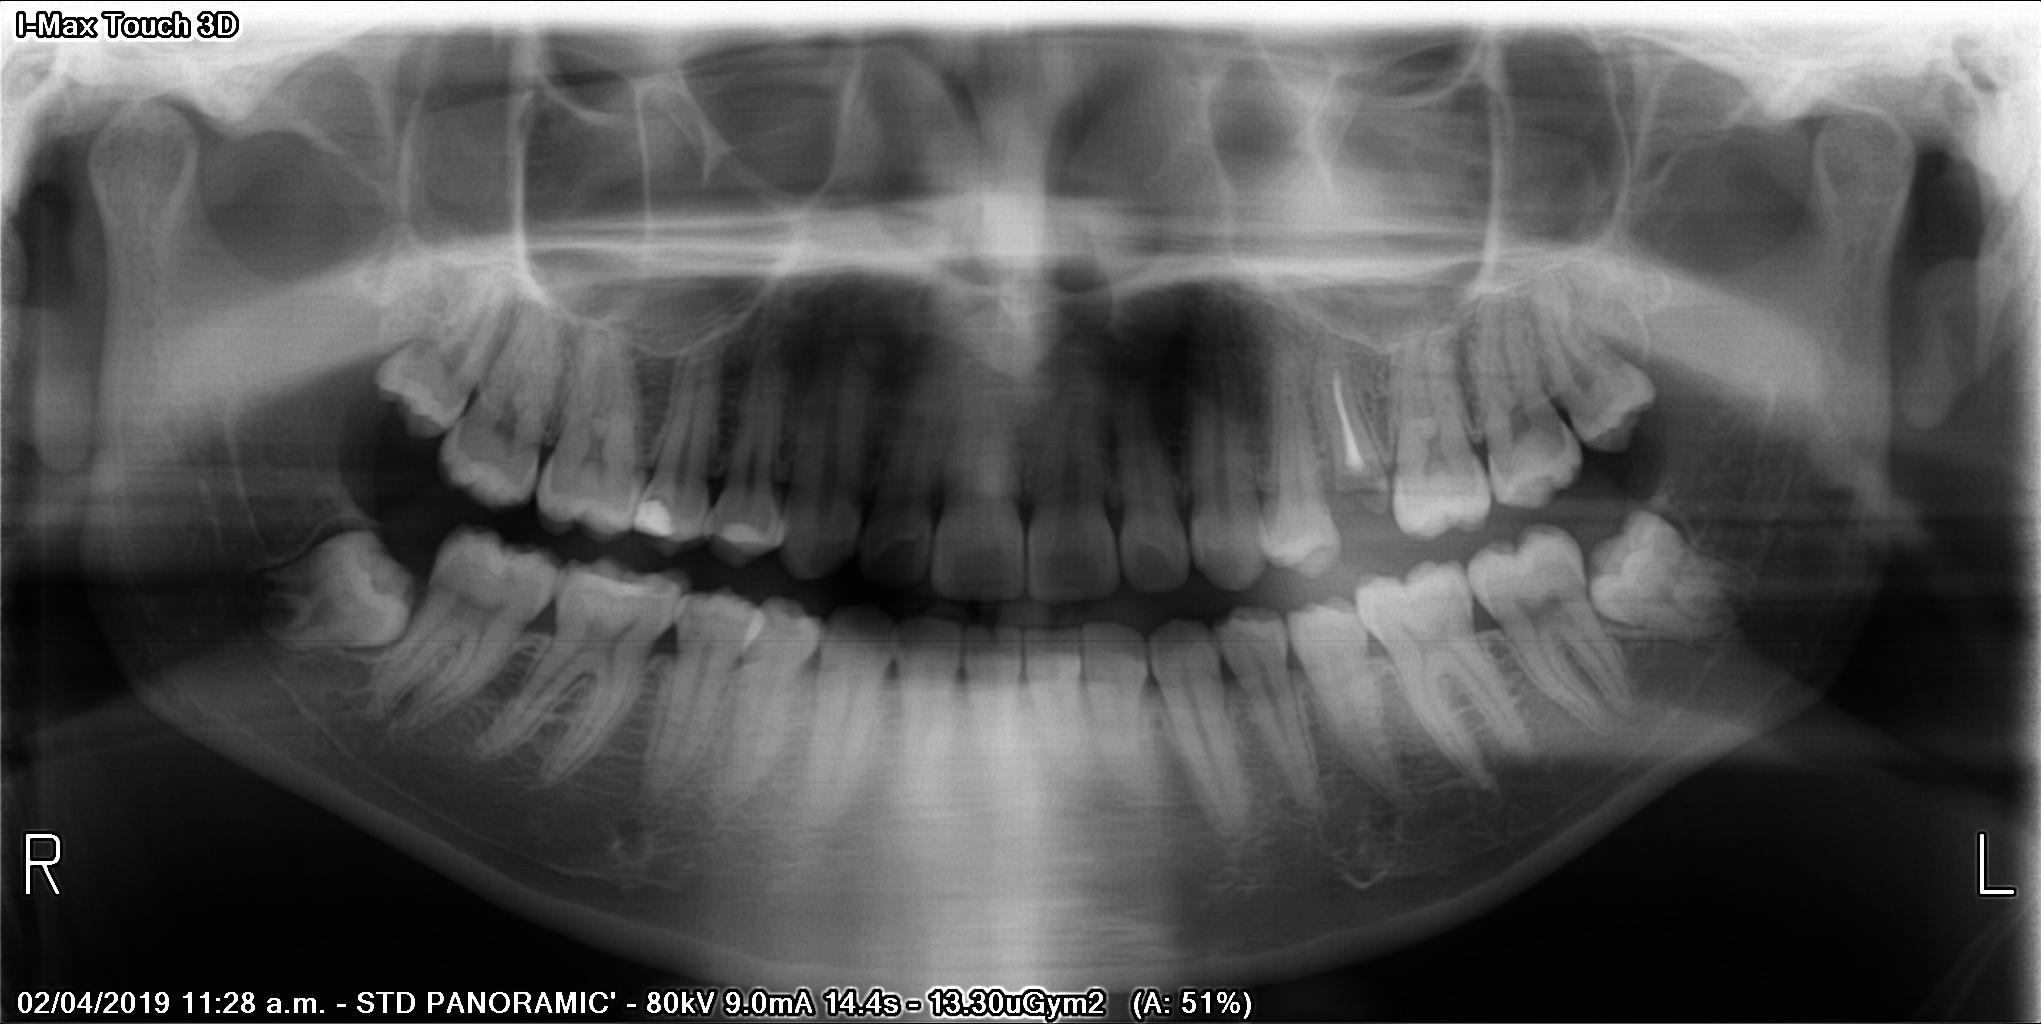Çürük: (639, 499, 672, 550)
Çürük Bölgesi: (1341, 478, 1383, 499), (635, 491, 684, 508)
